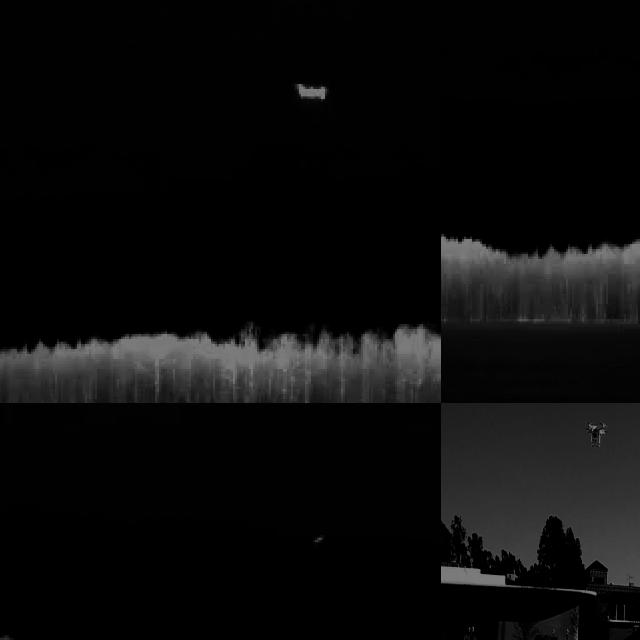1: (283, 76, 343, 112), (298, 522, 338, 568)
drone: (584, 416, 610, 448)
